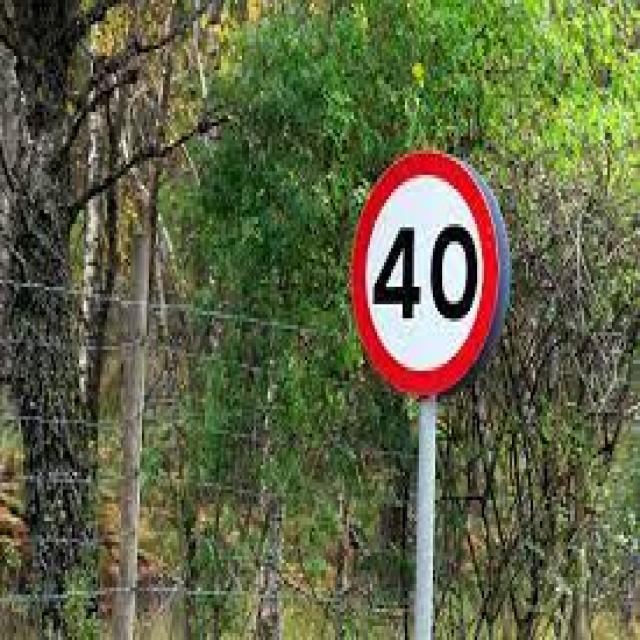speed limit 40: (347, 152, 505, 404)
